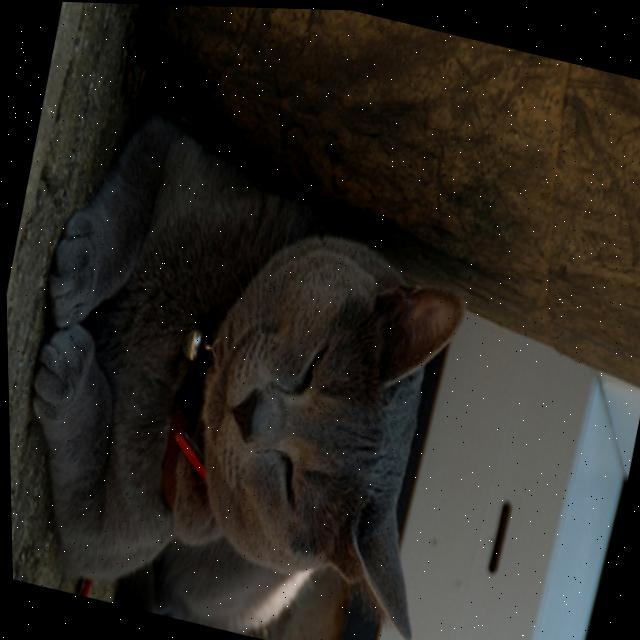Russian Blue: (2, 102, 503, 640)
